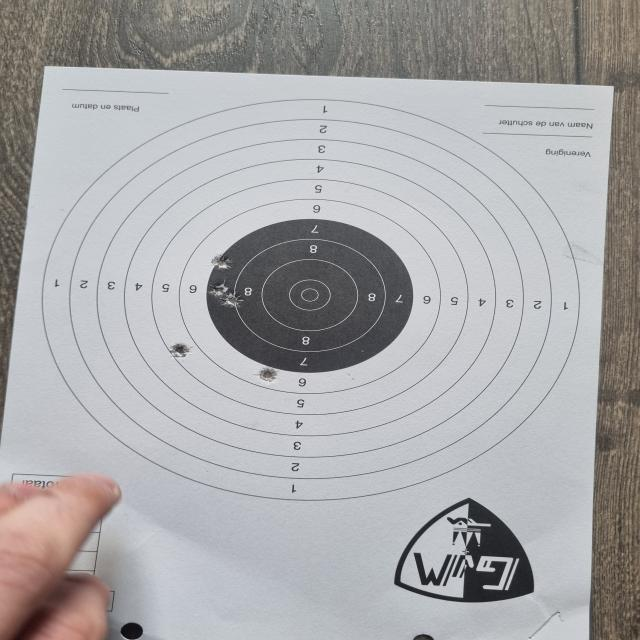5: (168, 343, 195, 361)
6: (256, 368, 280, 383)
7: (210, 256, 236, 273), (208, 282, 229, 297)
8: (220, 293, 244, 308)
Target: (34, 97, 585, 501)
black_contour: (208, 220, 417, 373)
